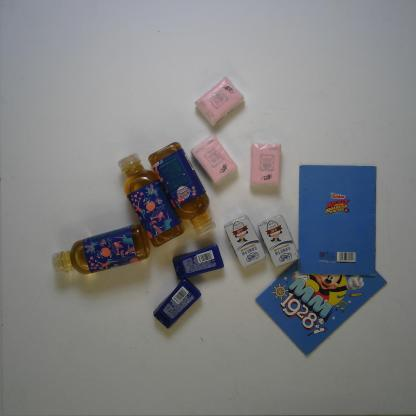Drink: (114, 150, 187, 250), (146, 140, 218, 238), (47, 219, 154, 277)
Milk: (221, 213, 268, 272), (257, 212, 302, 270)
Personal Hygiene: (150, 276, 203, 332), (170, 241, 226, 282)
Stationery: (252, 258, 390, 359), (295, 162, 379, 278)
Tissue: (188, 131, 239, 187), (192, 75, 247, 126), (249, 141, 282, 186)
